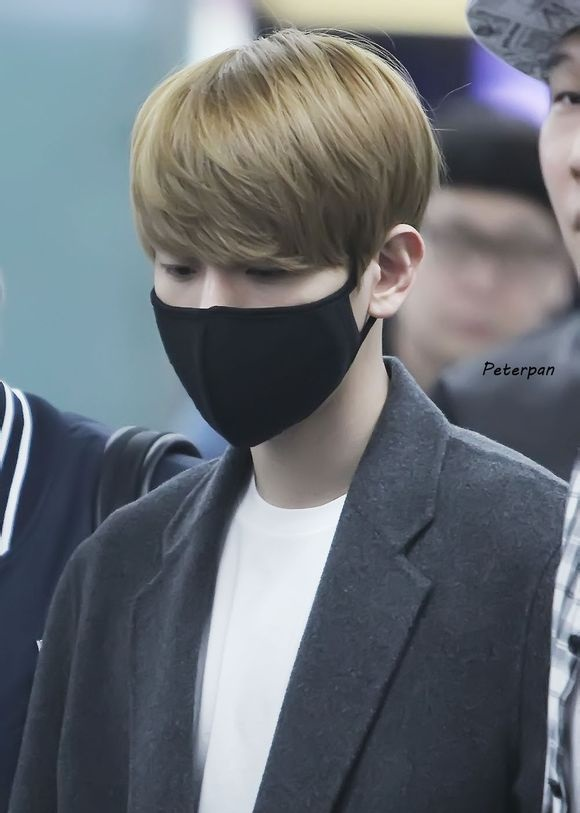face: (418, 174, 553, 378), (535, 31, 580, 262)
face_mask: (153, 164, 335, 440)
